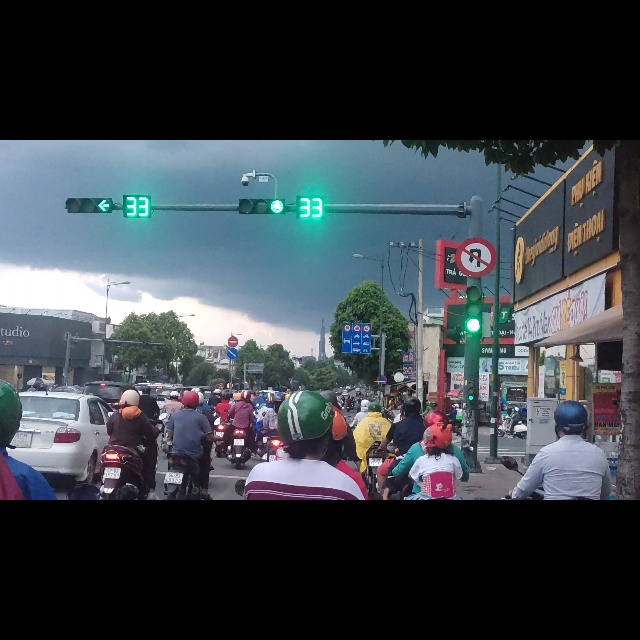bien_cam: (455, 169, 497, 245), (341, 324, 372, 381), (227, 369, 239, 391), (227, 348, 239, 368)
